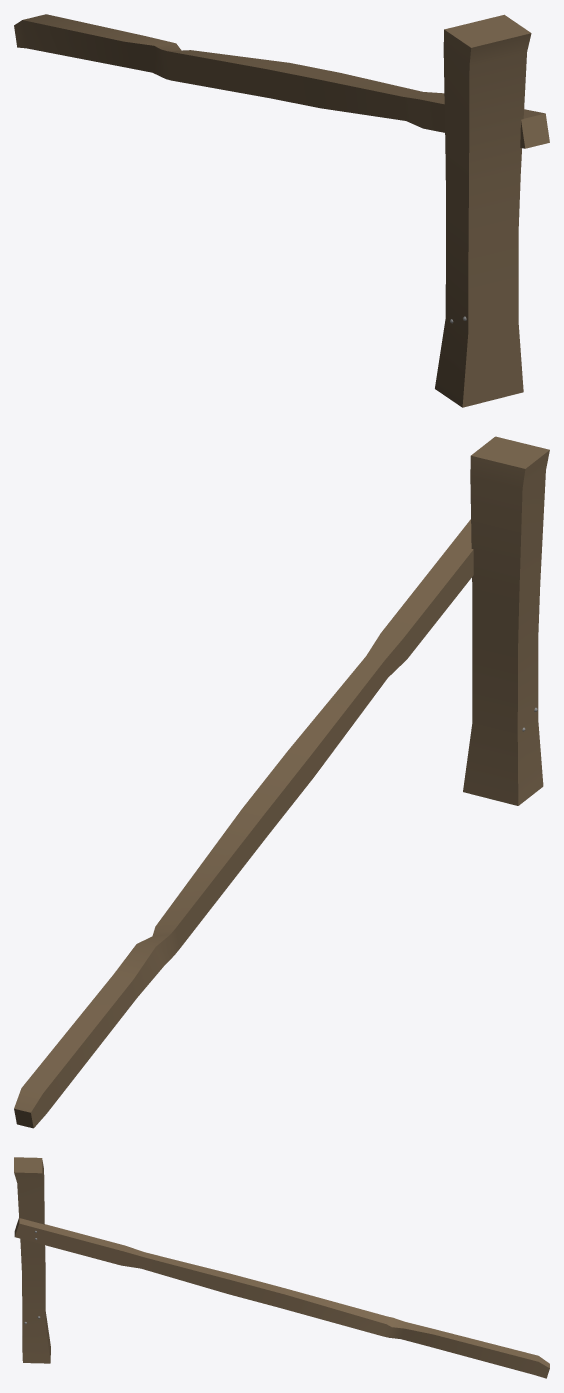
File: Fance_5.fbx
3 renders of one model, top to bottom at view 1: azimuth 30°, elevation 25°; view 2: azimuth 150°, elevation 25°; view 3: azimuth 270°, elevation 25°, orthographic. The views are drawn at different scales.
Parts seen in each view (by area): view 1: fance_5; view 2: fance_5; view 3: fance_5.
Boxes of the visible parts, <box> form: fance_5: <box>14,14,549,407</box>; fance_5: <box>14,436,549,1128</box>; fance_5: <box>14,1157,549,1378</box>.
Size of the model in its own units: 19.1 by 86.35 by 208.
